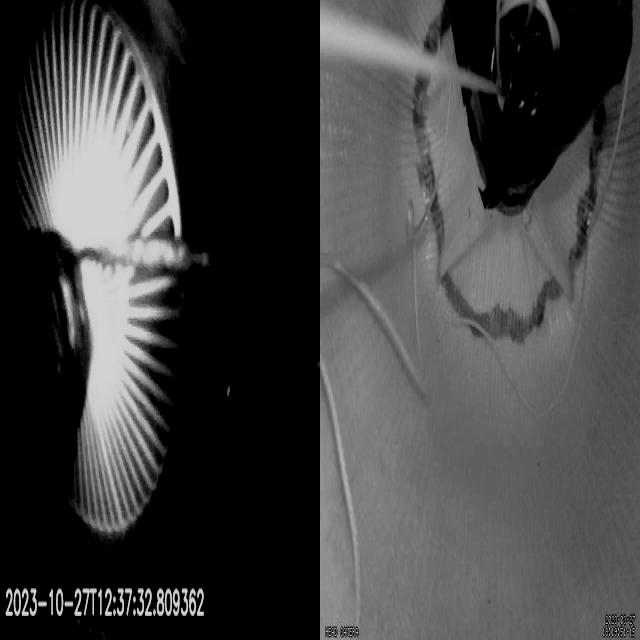red-circle: (413, 2, 606, 348)
